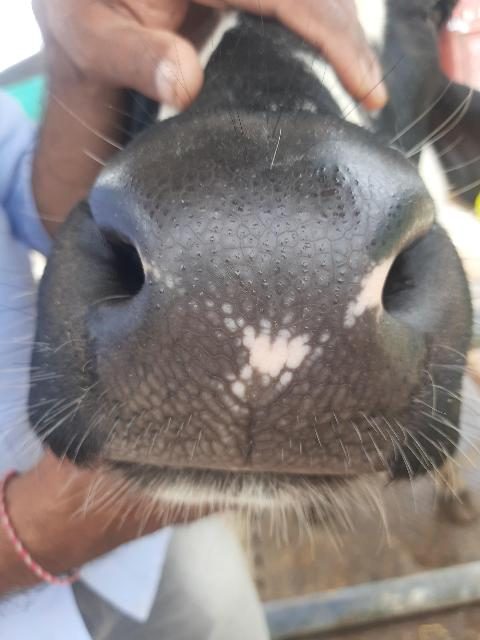Muzzle: (118, 187, 416, 463)
